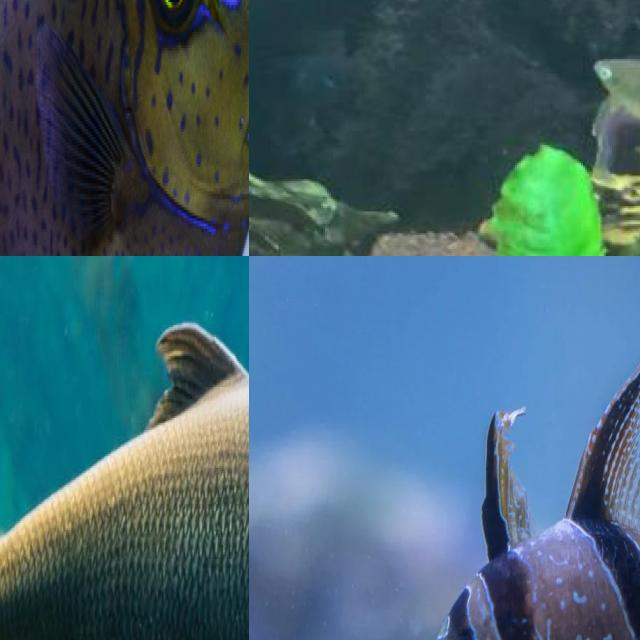fish: (249, 296, 640, 640), (0, 256, 249, 640), (0, 0, 249, 256)
